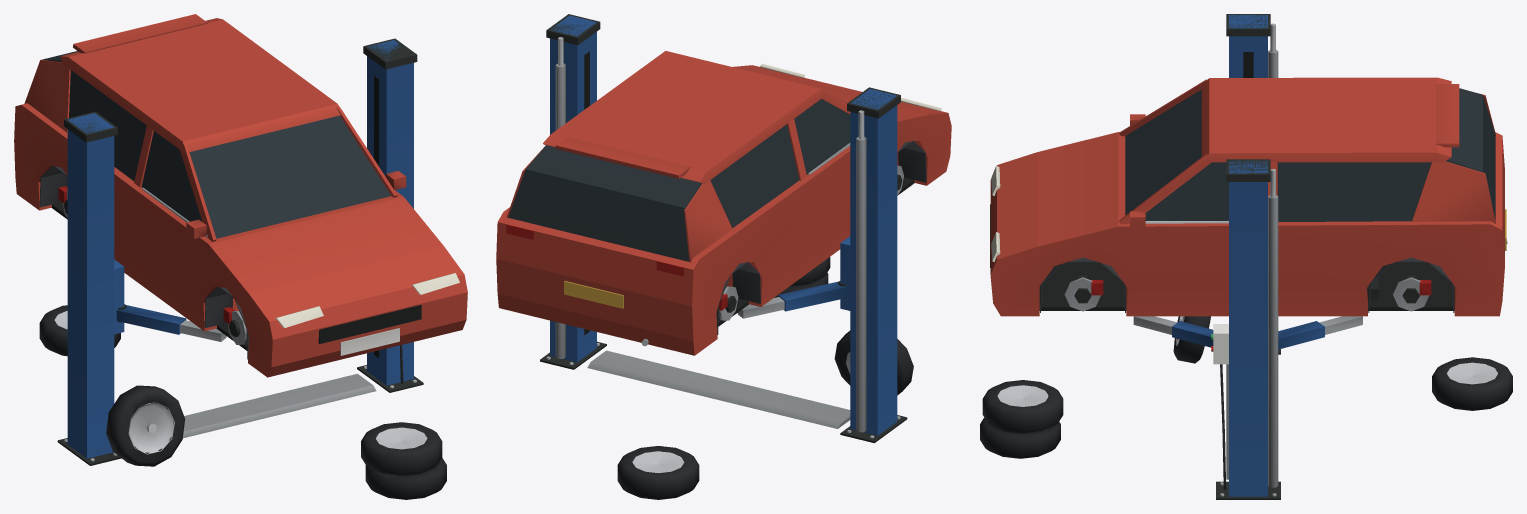
The model's file is carLift.far.glb.
3 views of the same model, side by side, from view 1: azimuth 30°, elevation 25°; view 2: azimuth 150°, elevation 25°; view 3: azimuth 270°, elevation 25° (orthographic).
Parts seen in each view (by area): view 1: carLift_far; view 2: carLift_far; view 3: carLift_far.
Boxes of the visible parts, bbox=[...] form: carLift_far: bbox=[14, 14, 467, 499]; carLift_far: bbox=[496, 14, 951, 499]; carLift_far: bbox=[980, 14, 1512, 499].
Bounding box in the file's own units: 2.94 × 2.76 × 4.09.
